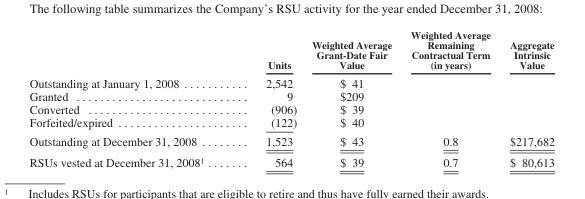table: (28, 28, 553, 168)
table column: (28, 28, 234, 168), (400, 28, 499, 168), (303, 28, 400, 168), (234, 28, 303, 168), (499, 28, 553, 168)
table column header: (28, 28, 553, 73)
table row: (28, 28, 553, 73), (28, 131, 553, 151), (28, 151, 553, 168), (28, 73, 553, 89), (28, 115, 553, 131), (28, 89, 553, 102), (28, 102, 553, 115)
